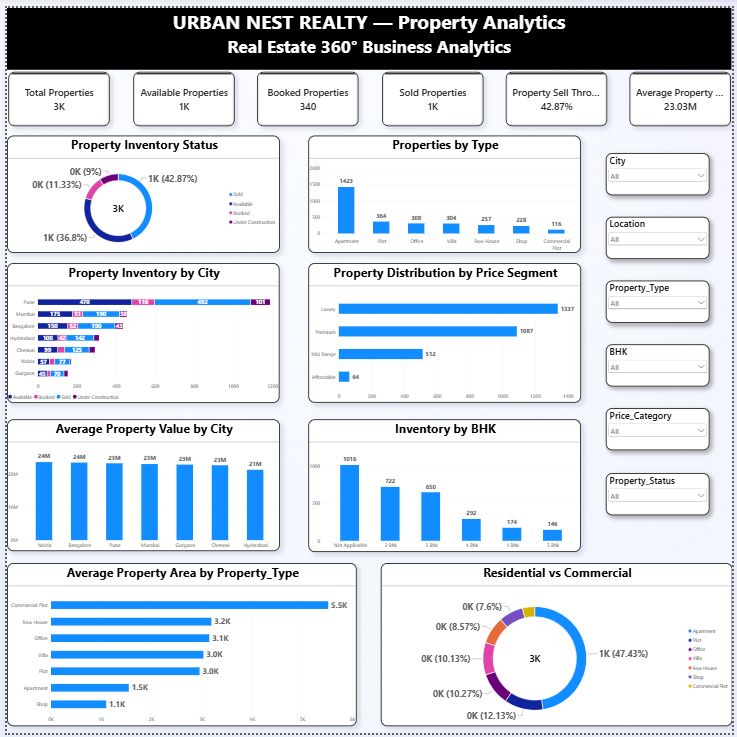

Layout of this report page (visuals, bound fields, positions):
{"tool":"powerbi","page":{"name":"Property_Analytics","canvas":[2000,2000],"ordinal":1},"visuals":[{"type":"cardVisual","fields":{"Data":["_Property_Measures.Total Properties"]},"box":[4.9,175.3,280,150],"z":0},{"type":"cardVisual","fields":{"Data":["_Agent_Measures.Average Property List Price"]},"box":[1718.3,175,280,150],"z":1000},{"type":"cardVisual","fields":{"Data":["_Property_Measures.Available Properties"]},"box":[347.6,175.3,280,150],"z":2000},{"type":"cardVisual","fields":{"Data":["_Property_Measures.Booked Properties"]},"box":[690.3,175.3,280,150],"z":3000},{"type":"cardVisual","title":"Sell Through %","fields":{"Data":["_Property_Measures.Property Sell Through %"]},"box":[1375.7,175.3,280,150],"z":4000},{"type":"cardVisual","fields":{"Data":["_Property_Measures.Sold Properties"]},"box":[1033,175.3,280,150],"z":5000},{"type":"donutChart","title":"Property Inventory Status","fields":{"Category":["Dim_Property.Property_Status"],"Y":["_Property_Measures.Total Properties"]},"box":[0,352,752.9,324.3],"z":6000},{"type":"clusteredColumnChart","title":"Properties by Type","fields":{"Category":["Dim_Property.Property_Type"],"Y":["_Property_Measures.Total Properties"]},"box":[830,352,752,324],"z":7000},{"type":"barChart","title":"Property Distribution by Price Segment","fields":{"Category":["Dim_Property.Price_Category"],"Y":["_Property_Measures.Total Properties"]},"box":[830,702,752.9,385.7],"z":8000},{"type":"columnChart","title":"Average Property Value by City","fields":{"Category":["Dim_Location.City"],"Y":["_Property_Measures.Average Property Value"]},"box":[0,1134,752.9,364.3],"z":9000},{"type":"barChart","title":"Property Inventory by City","fields":{"Category":["Dim_Location.City"],"Series":["Dim_Property.Property_Status"],"Y":["_Property_Measures.Total Properties"]},"box":[0,702,752,386],"z":10000},{"type":"columnChart","title":"Inventory by BHK","fields":{"Category":["Dim_Property.BHK"],"Y":["_Property_Measures.Total Properties"]},"box":[830,1134,752,366],"z":11000},{"type":"barChart","fields":{"Category":["Dim_Property.Property_Type"],"Y":["_Property_Measures.Average Property Area"]},"box":[0,1530,965,450],"z":12000},{"type":"donutChart","title":"Residential vs Commercial","fields":{"Category":["Dim_Property.Property_Type"],"Y":["_Property_Measures.Total Properties"]},"box":[1030,1530,970,450],"z":13000},{"type":"slicer","fields":{"Values":["Dim_Location.City"]},"box":[1652.2,398.7,286.7,116.7],"z":14000},{"type":"slicer","fields":{"Values":["Dim_Property.Price_Category"]},"box":[1652.2,1104.7,286.7,116.7],"z":15000},{"type":"slicer","fields":{"Values":["Dim_Property.BHK"]},"box":[1652.2,928.2,286.7,116.7],"z":16000},{"type":"slicer","fields":{"Values":["Dim_Property.Property_Type"]},"box":[1652.2,751.7,286.7,116.7],"z":17000},{"type":"slicer","fields":{"Values":["Dim_Location.Location"]},"box":[1652.2,575.2,286.7,116.7],"z":18000},{"type":"slicer","fields":{"Values":["Dim_Property.Property_Status"]},"box":[1652.2,1281.2,286.7,116.7],"z":19000},{"type":"textbox","box":[6,20,280,150],"z":20000},{"type":"textbox","box":[0,0,1998,170],"z":21000}]}

Visuals, with their boxes in screenshot pixels (x1, y1, x2, y2), scaled from the page's 2000x2000 canvas onto the 737x737 screenshot:
cardVisual - _Property_Measures.Total Properties: Rect(2, 65, 105, 120)
cardVisual - _Agent_Measures.Average Property List Price: Rect(633, 64, 736, 120)
cardVisual - _Property_Measures.Available Properties: Rect(128, 65, 231, 120)
cardVisual - _Property_Measures.Booked Properties: Rect(254, 65, 358, 120)
"Sell Through %" cardVisual: Rect(507, 65, 610, 120)
cardVisual - _Property_Measures.Sold Properties: Rect(381, 65, 484, 120)
"Property Inventory Status" donutChart: Rect(0, 130, 277, 249)
"Properties by Type" clusteredColumnChart: Rect(306, 130, 583, 249)
"Property Distribution by Price Segment" barChart: Rect(306, 259, 583, 401)
"Average Property Value by City" columnChart: Rect(0, 418, 277, 552)
"Property Inventory by City" barChart: Rect(0, 259, 277, 401)
"Inventory by BHK" columnChart: Rect(306, 418, 583, 553)
barChart - Dim_Property.Property_Type x _Property_Measures.Average Property Area: Rect(0, 564, 356, 730)
"Residential vs Commercial" donutChart: Rect(380, 564, 736, 730)
slicer - Dim_Location.City: Rect(609, 147, 714, 190)
slicer - Dim_Property.Price_Category: Rect(609, 407, 714, 450)
slicer - Dim_Property.BHK: Rect(609, 342, 714, 385)
slicer - Dim_Property.Property_Type: Rect(609, 277, 714, 320)
slicer - Dim_Location.Location: Rect(609, 212, 714, 255)
slicer - Dim_Property.Property_Status: Rect(609, 472, 714, 515)
textbox: Rect(2, 7, 105, 63)
textbox: Rect(0, 0, 736, 63)
